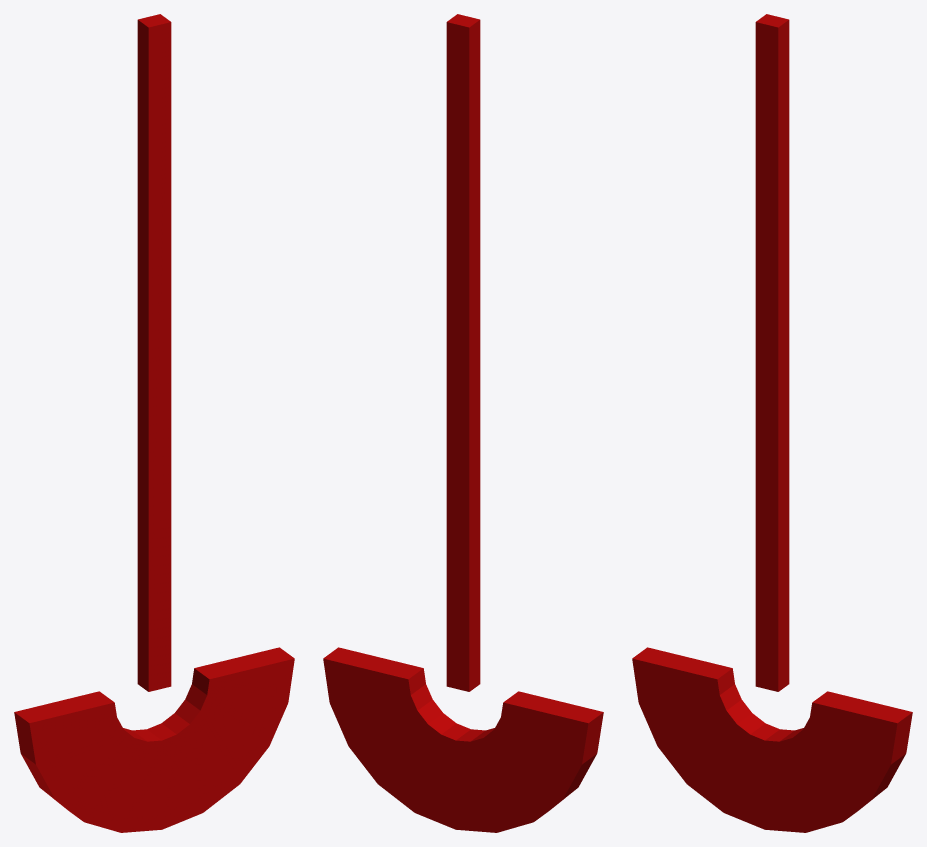
Rendered from pendulum_blade.glb.
3 renders of one model, left to right at view 1: azimuth 30°, elevation 25°; view 2: azimuth 150°, elevation 25°; view 3: azimuth 330°, elevation 25°, orthographic.
Visible parts, largest first — view 1: PendulumBlade; view 2: PendulumBlade; view 3: PendulumBlade.
Boxes of the visible parts, x1,y1,x2,y2 form: PendulumBlade: (14,14,294,832); PendulumBlade: (323,14,603,832); PendulumBlade: (632,14,912,832).
Size of the model in its own units: 1.4 by 4.05 by 0.14.
